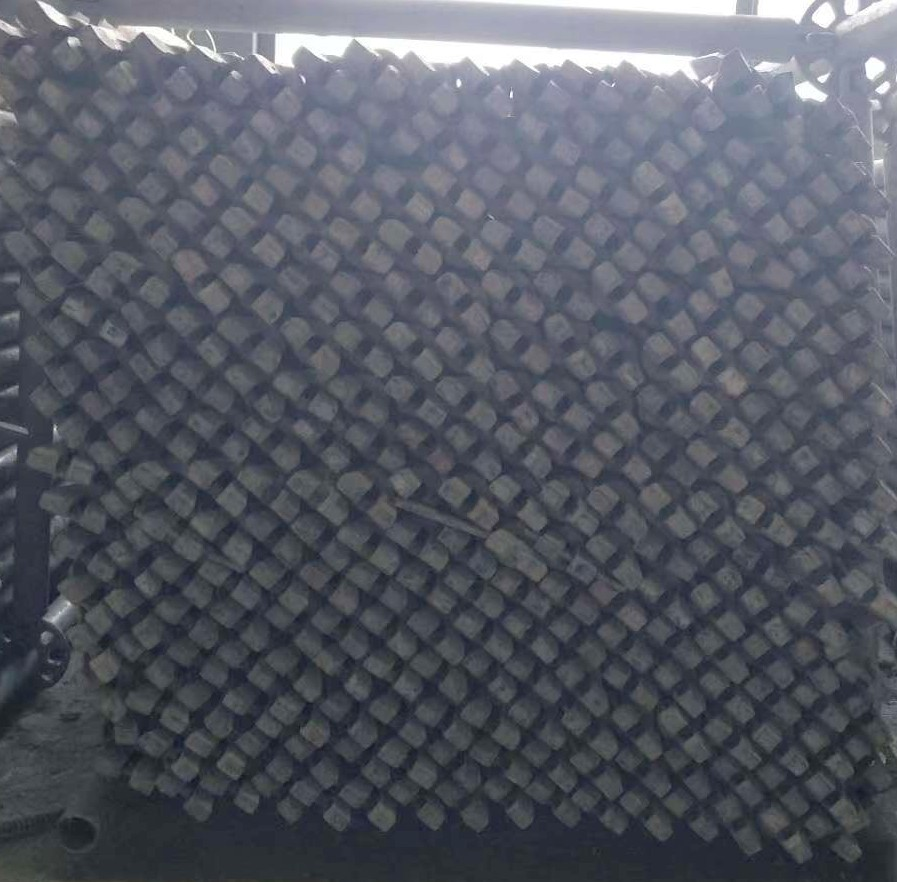NHsquare_steel: (128, 24, 198, 101), (17, 1, 87, 74), (111, 295, 179, 370), (179, 42, 253, 109), (8, 282, 82, 349), (107, 194, 180, 261), (318, 215, 395, 278), (73, 25, 142, 95), (165, 245, 231, 318), (214, 202, 284, 270), (237, 49, 303, 121), (452, 111, 524, 177), (269, 211, 343, 275), (1, 228, 65, 302), (244, 109, 319, 172), (33, 74, 105, 139), (515, 164, 595, 222), (362, 162, 438, 223), (276, 313, 344, 381), (637, 267, 697, 344), (260, 160, 332, 224), (166, 299, 230, 371), (59, 290, 135, 350), (302, 108, 370, 175), (44, 131, 115, 195), (501, 52, 574, 114), (163, 198, 236, 260), (198, 99, 264, 167), (274, 261, 342, 327), (212, 311, 283, 374), (511, 110, 584, 171), (221, 259, 287, 326), (51, 239, 120, 303), (326, 317, 395, 381), (352, 98, 422, 161), (3, 176, 65, 247), (46, 184, 119, 244), (154, 144, 220, 210), (67, 339, 133, 405), (829, 208, 897, 272), (729, 285, 797, 349), (414, 164, 489, 222), (373, 218, 448, 276), (89, 88, 158, 151), (105, 140, 174, 203), (398, 47, 460, 117), (205, 155, 277, 215), (713, 43, 769, 120), (99, 248, 172, 307), (407, 107, 471, 174), (376, 319, 443, 383), (584, 480, 651, 544), (338, 38, 406, 101), (314, 162, 383, 224), (326, 269, 396, 330), (782, 239, 842, 310), (540, 311, 600, 382), (468, 165, 540, 224), (148, 91, 210, 159), (433, 266, 495, 334), (526, 215, 597, 274), (683, 434, 754, 493), (476, 218, 548, 276), (476, 267, 548, 325), (425, 217, 498, 274), (81, 389, 147, 452), (684, 487, 747, 553), (722, 236, 796, 292), (528, 267, 602, 323), (643, 325, 703, 394), (239, 412, 308, 472), (576, 216, 647, 274), (568, 165, 644, 219), (627, 163, 690, 228), (735, 335, 798, 400), (224, 361, 287, 426), (379, 269, 446, 330), (451, 53, 511, 121), (377, 370, 445, 430), (582, 374, 642, 442), (682, 226, 737, 300), (334, 774, 400, 835), (732, 178, 792, 245), (293, 45, 361, 104), (86, 435, 144, 504), (185, 510, 255, 567), (488, 473, 551, 536), (611, 60, 676, 121), (812, 94, 873, 159), (629, 217, 694, 278), (783, 189, 843, 255), (588, 261, 648, 327), (536, 479, 602, 539), (623, 115, 690, 174), (733, 492, 800, 551), (834, 259, 892, 327), (690, 331, 748, 399), (429, 376, 499, 432), (135, 507, 205, 563), (664, 68, 726, 131), (436, 323, 498, 386), (104, 583, 166, 646), (193, 555, 264, 610), (833, 306, 894, 370), (487, 317, 551, 378), (490, 423, 557, 481), (527, 374, 595, 431), (32, 486, 108, 537), (587, 428, 657, 483), (833, 453, 897, 513), (568, 110, 633, 169), (686, 285, 744, 351), (434, 475, 500, 533), (170, 357, 237, 414), (128, 460, 195, 517), (387, 513, 454, 570), (96, 484, 151, 553), (836, 403, 897, 465), (289, 511, 351, 572), (785, 442, 845, 505), (20, 334, 79, 398), (126, 350, 184, 415), (219, 683, 290, 736), (484, 370, 541, 436), (633, 381, 699, 438), (723, 135, 790, 191), (590, 327, 645, 395), (432, 524, 501, 578), (638, 481, 699, 542), (240, 510, 302, 570), (787, 294, 846, 357), (783, 143, 841, 207), (640, 431, 705, 488), (540, 424, 605, 481), (273, 368, 339, 424), (237, 463, 304, 518), (783, 595, 850, 650), (683, 178, 743, 239), (690, 388, 751, 448), (106, 539, 167, 599), (551, 660, 612, 720), (838, 359, 897, 421), (60, 621, 119, 683), (678, 126, 736, 189), (132, 407, 205, 457), (762, 68, 808, 147), (181, 411, 255, 460), (409, 698, 480, 749), (556, 58, 623, 112), (2, 128, 56, 195), (31, 382, 90, 443), (735, 392, 793, 454), (115, 630, 177, 688), (288, 417, 351, 474), (299, 560, 362, 617), (336, 519, 402, 573), (562, 743, 628, 797), (790, 345, 843, 412), (48, 531, 119, 581), (283, 730, 343, 789), (398, 419, 459, 477), (485, 567, 553, 619), (347, 560, 409, 617), (313, 645, 376, 701), (582, 535, 646, 590), (508, 698, 572, 753), (438, 566, 507, 617), (264, 694, 333, 745), (327, 374, 392, 428), (183, 459, 249, 512), (740, 582, 793, 648), (166, 635, 232, 688), (57, 576, 116, 635), (290, 463, 348, 523), (251, 558, 311, 616), (175, 681, 235, 739), (589, 574, 650, 631), (643, 617, 705, 673), (569, 784, 633, 838), (785, 499, 850, 552), (636, 575, 697, 631), (412, 647, 473, 703), (662, 788, 723, 844), (756, 802, 811, 864), (342, 420, 411, 469), (469, 737, 538, 786), (832, 161, 891, 218), (267, 645, 326, 702), (739, 631, 795, 691), (458, 698, 525, 748), (386, 777, 448, 831), (616, 789, 678, 843), (119, 686, 193, 731), (369, 695, 434, 746), (447, 424, 505, 481), (649, 660, 706, 718), (432, 779, 490, 836), (547, 613, 606, 669), (362, 646, 422, 701), (483, 774, 538, 834), (733, 540, 794, 594), (308, 604, 369, 658), (292, 779, 353, 833), (559, 706, 622, 758), (2, 75, 52, 140), (394, 563, 459, 613), (450, 610, 515, 660), (331, 738, 396, 788), (601, 658, 661, 712), (703, 716, 763, 770), (83, 752, 155, 797), (540, 570, 601, 623), (501, 610, 562, 663), (791, 680, 852, 733), (355, 605, 418, 656), (759, 755, 810, 818), (198, 767, 262, 817), (687, 538, 743, 595), (599, 616, 655, 673), (698, 667, 754, 724), (426, 738, 485, 792), (336, 472, 396, 525), (263, 602, 323, 655), (217, 637, 277, 690), (211, 598, 272, 650), (632, 532, 698, 580), (533, 532, 595, 583), (20, 445, 99, 485), (157, 597, 221, 646), (838, 567, 897, 620), (743, 673, 802, 726), (740, 442, 792, 502), (751, 724, 811, 776), (136, 731, 197, 782), (790, 634, 840, 696), (376, 737, 438, 787), (713, 795, 762, 858), (692, 628, 748, 683), (655, 707, 711, 762), (662, 747, 717, 803), (465, 645, 519, 702), (155, 553, 213, 606), (239, 729, 297, 782), (785, 400, 844, 452), (155, 774, 215, 825), (319, 695, 380, 745), (796, 542, 842, 608), (800, 726, 855, 781), (609, 703, 663, 759), (845, 505, 897, 563), (181, 735, 248, 780), (504, 657, 566, 705), (248, 770, 303, 824), (691, 582, 744, 638), (410, 610, 466, 663), (526, 779, 582, 831), (520, 738, 576, 790), (841, 737, 891, 795), (804, 766, 855, 822), (390, 465, 443, 516), (617, 747, 672, 796), (712, 753, 763, 805), (1, 21, 41, 82), (848, 693, 890, 749)
circle_steel: (52, 806, 102, 856)
